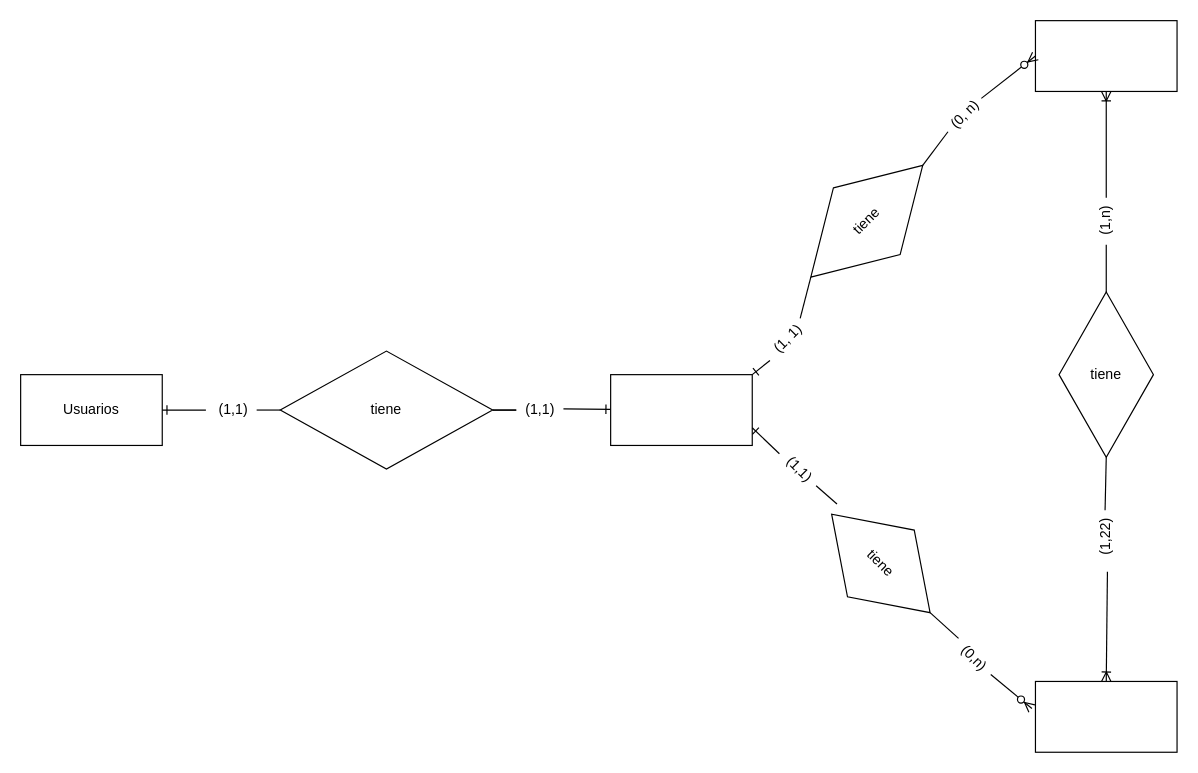
Image size: 1198x773. Some labels were removed from this diagram. Here are the shapes that lost their labels. From the top down, the centre of each, then its label:
point 1105,55: Partidos
point 680,409: Equipo
point 1105,716: Jugadores
